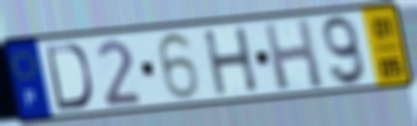2: (92, 36, 145, 109)
6: (156, 30, 203, 102)
9: (318, 14, 369, 87)
D: (43, 41, 95, 113)
H: (260, 16, 327, 93), (200, 24, 261, 98)
